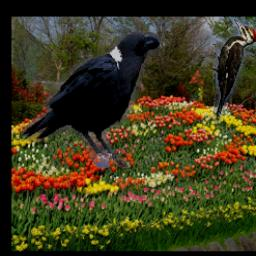Crow: (22, 33, 162, 170)
Woodpecker: (214, 18, 256, 128)
